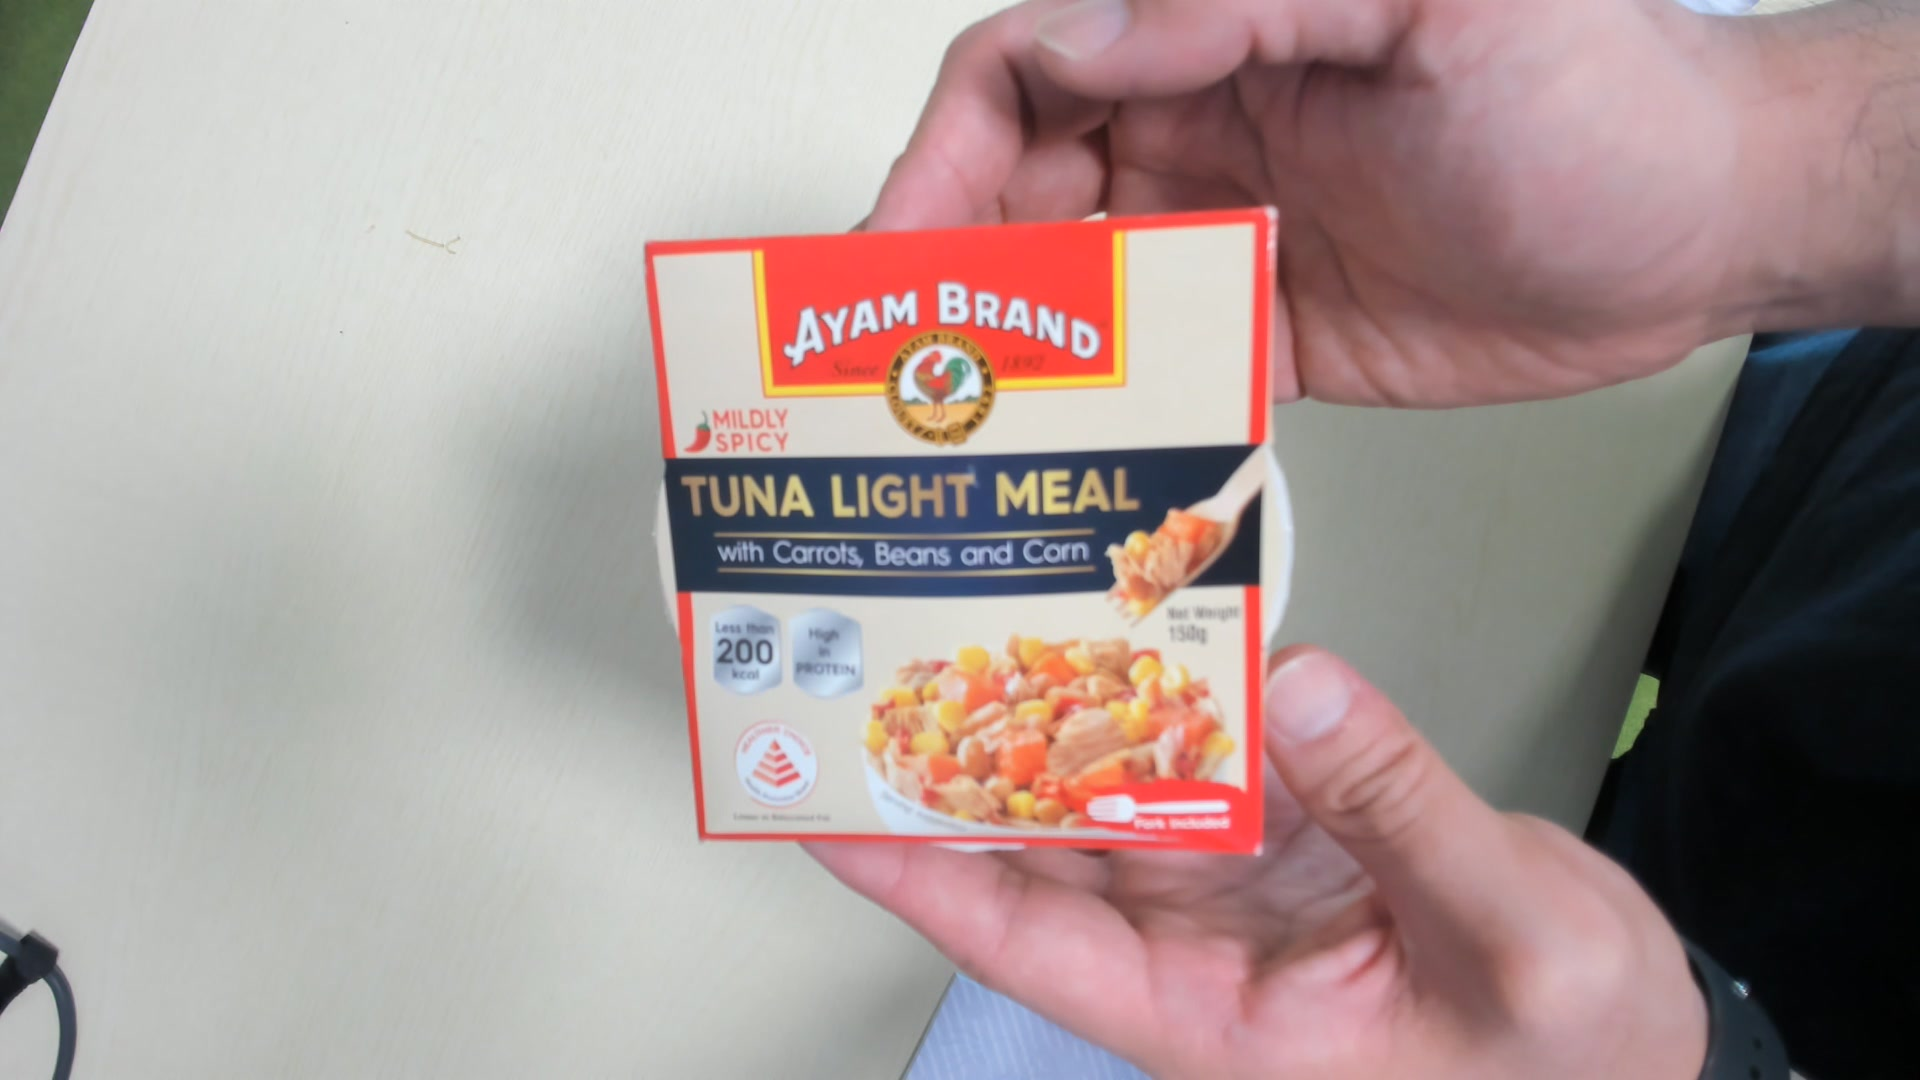InstantMeals_100-199g_NonHalal_Healthy: (637, 218, 1271, 866)
